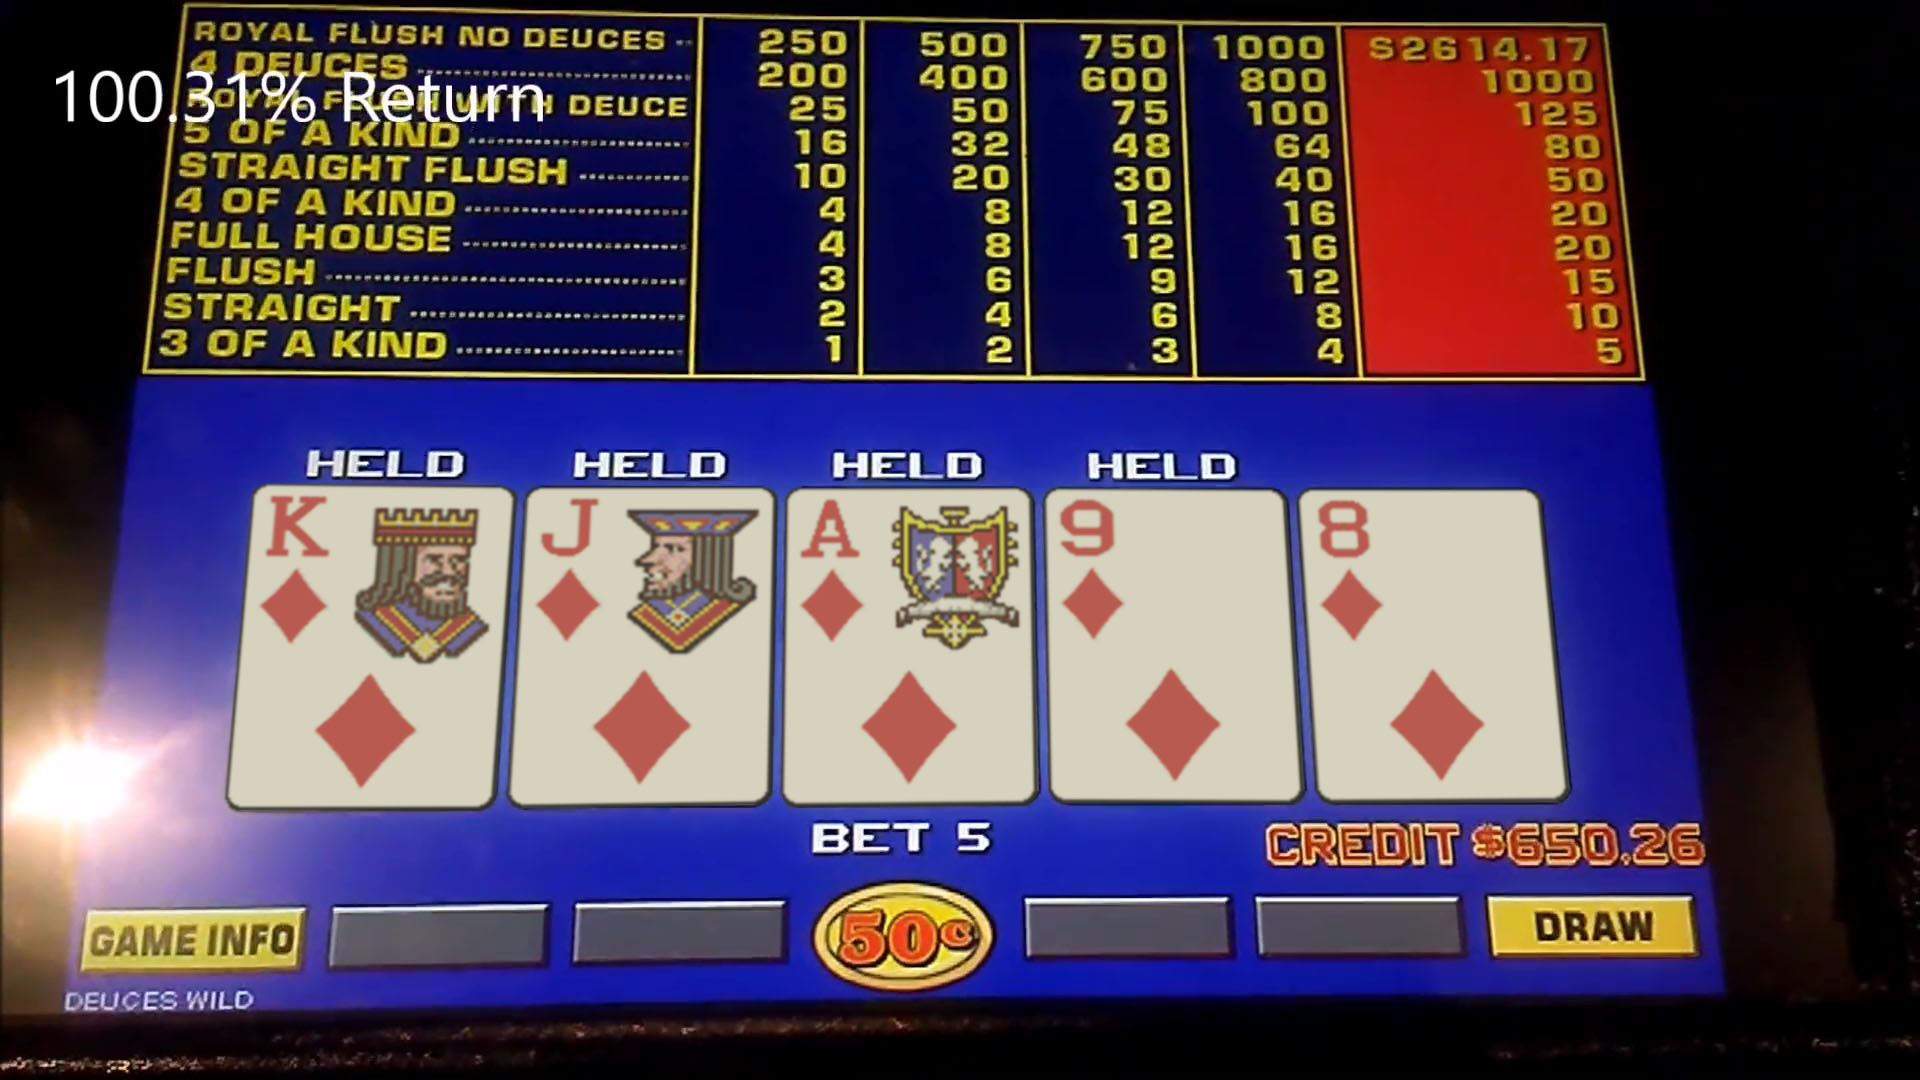D8: (1313, 492, 1539, 640)
D9: (1048, 492, 1287, 640)
DA: (786, 489, 1030, 644)
DJ: (526, 489, 770, 642)
DK: (251, 487, 501, 644)
